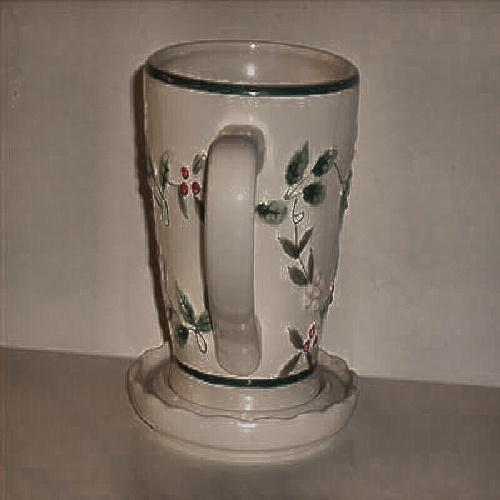mug: (123, 34, 355, 461)
